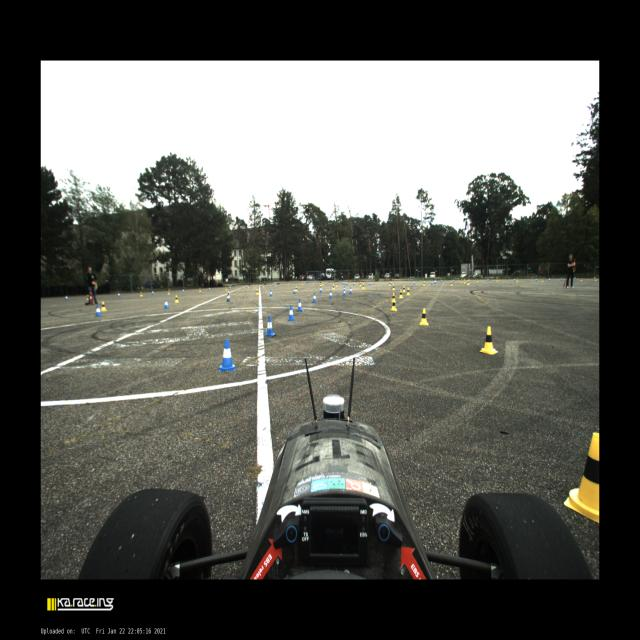blue_cone: (219, 338, 235, 372), (265, 316, 275, 337), (288, 305, 295, 321), (95, 305, 102, 316), (297, 300, 303, 312), (312, 293, 317, 302), (164, 300, 169, 308), (227, 294, 230, 302), (343, 289, 346, 296), (293, 288, 296, 294), (330, 290, 332, 298), (350, 287, 352, 294), (320, 286, 322, 292), (270, 290, 272, 296), (66, 295, 68, 300), (118, 292, 120, 297), (152, 290, 154, 295), (369, 281, 371, 285), (487, 278, 489, 282), (514, 278, 516, 282), (452, 279, 454, 282), (574, 277, 576, 280), (229, 286, 231, 289), (326, 281, 328, 284), (337, 281, 339, 284), (434, 281, 436, 284), (435, 280, 437, 283), (183, 288, 184, 292), (414, 280, 415, 284), (431, 280, 432, 284), (536, 278, 537, 282), (549, 278, 550, 282), (561, 277, 562, 281), (209, 287, 210, 291), (272, 284, 274, 286), (346, 281, 347, 285), (353, 282, 354, 286), (343, 282, 345, 284), (344, 282, 346, 284), (391, 281, 392, 285), (246, 285, 247, 288), (260, 284, 261, 287), (304, 282, 305, 285), (289, 282, 290, 285), (342, 281, 343, 284), (441, 280, 442, 282), (315, 282, 316, 284)
yellow_cone: (564, 432, 600, 524), (480, 326, 498, 354), (420, 308, 428, 326), (391, 299, 397, 311), (101, 301, 106, 311), (398, 290, 404, 298), (174, 295, 179, 303), (406, 288, 410, 296), (402, 286, 406, 292), (227, 290, 230, 298), (256, 288, 259, 295), (392, 284, 395, 290), (362, 284, 365, 290), (332, 284, 335, 290), (594, 276, 597, 282), (388, 281, 391, 286), (450, 281, 453, 286), (140, 292, 143, 297), (359, 282, 362, 286), (336, 282, 338, 288), (541, 278, 544, 282), (87, 294, 89, 300), (580, 277, 582, 282), (467, 280, 469, 285), (463, 279, 465, 284), (423, 281, 425, 286), (296, 286, 298, 291), (516, 278, 518, 282), (496, 278, 498, 282), (476, 278, 478, 282), (199, 288, 201, 292), (287, 282, 289, 286), (322, 282, 324, 286), (225, 287, 227, 290), (320, 283, 322, 286), (168, 290, 169, 295), (461, 279, 462, 283), (313, 281, 314, 285), (302, 282, 303, 285), (248, 286, 249, 288), (263, 285, 264, 287), (275, 284, 276, 286)
